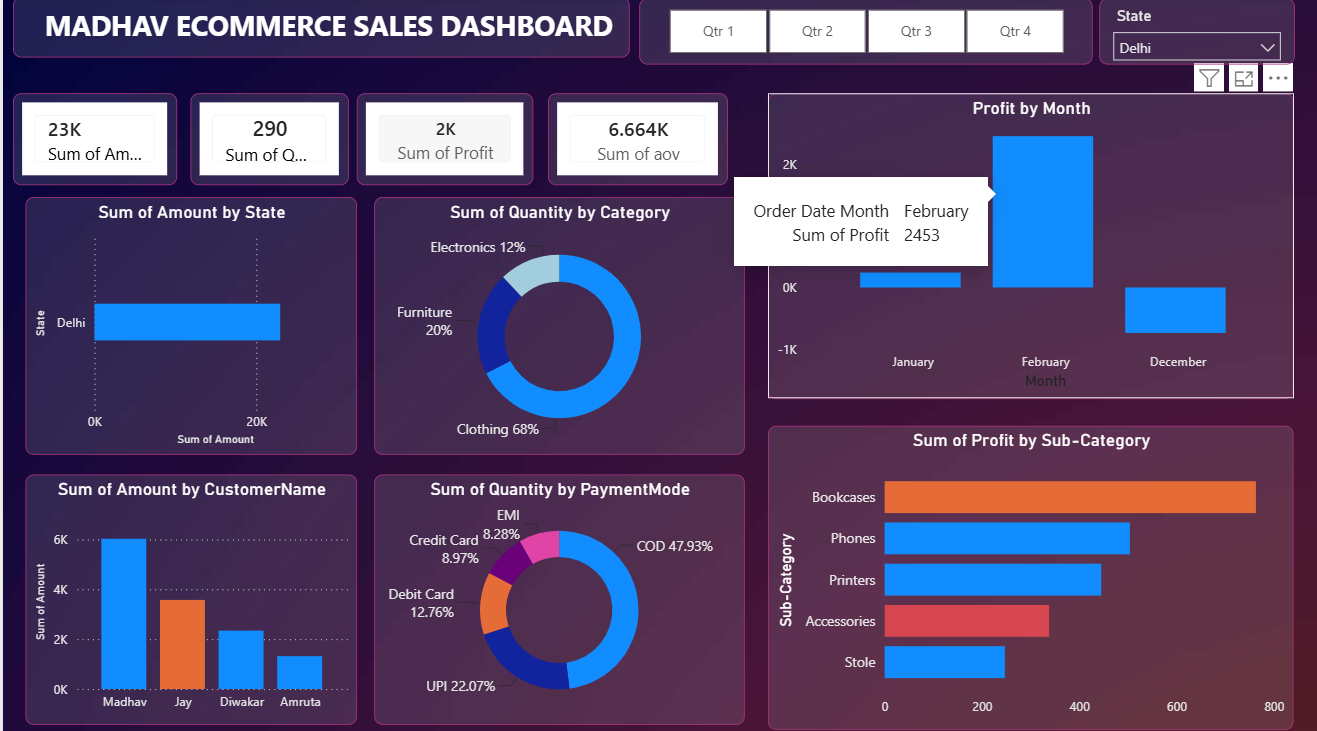

This screenshot's page, from the dashboard's own definition file:
{"tool":"powerbi","page":{"name":"Page 1","canvas":[1280,720],"ordinal":0},"visuals":[{"type":"textbox","box":[10,0,595,58.8],"z":0},{"type":"columnChart","title":"Profit by Month","fields":{"Y":["Sum(Details.Profit)"],"Category":["Orders.Order Date.Variation.Date Hierarchy.Month"]},"box":[738.8,92.5,507.5,295],"z":1000},{"type":"barChart","fields":{"Y":["Sum(Details.Profit)"],"Category":["Details.Sub-Category"]},"box":[738.8,413.8,507.5,293.8],"z":2000},{"type":"donutChart","fields":{"Category":["Details.Category"],"Y":["Sum(Details.Quantity)"]},"box":[358.8,192.5,357.5,248.8],"z":3000},{"type":"donutChart","fields":{"Category":["Details.PaymentMode"],"Y":["Sum(Details.Quantity)"]},"box":[358.8,461.2,357.5,241.2],"z":4000},{"type":"cardVisual","fields":{"Data":["Sum(Details.Amount)"]},"box":[10,92.5,158.8,88.8],"z":5000},{"type":"cardVisual","fields":{"Data":["Sum(Details.Quantity)"]},"box":[181.2,92.5,152.5,88.8],"z":6000},{"type":"cardVisual","fields":{"Data":["Sum(Details.aov)"]},"box":[526.2,92.5,173.8,88.8],"z":7000},{"type":"cardVisual","fields":{"Data":["Sum(Details.Profit)"]},"box":[341.2,92.5,170,88.8],"z":8000},{"type":"barChart","fields":{"Category":["Orders.State"],"Y":["Sum(Details.Amount)"]},"box":[21.2,192.5,320,248.8],"z":9000},{"type":"columnChart","fields":{"Y":["Sum(Details.Amount)"],"Category":["Orders.CustomerName"]},"box":[21.2,461.2,320,241.2],"z":10000},{"type":"slicer","fields":{"Values":["Orders.Order Date.Variation.Date Hierarchy.Quarter"]},"box":[613.8,1.2,437.5,63.8],"z":11000},{"type":"slicer","fields":{"Values":["Orders.State"]},"box":[1057.5,1.2,188.8,63.8],"z":12000}]}

Visuals, with their boxes in screenshot pixels (x1, y1, x2, y2), scaled from the page's 1280x720 canvas onto the 1317x731 screenshot:
textbox: [10, 0, 622, 60]
"Profit by Month" columnChart: [760, 94, 1282, 393]
barChart - Sum(Details.Profit) x Details.Sub-Category: [760, 420, 1282, 718]
donutChart - Details.Category x Sum(Details.Quantity): [369, 195, 737, 448]
donutChart - Details.PaymentMode x Sum(Details.Quantity): [369, 468, 737, 713]
cardVisual - Sum(Details.Amount): [10, 94, 174, 184]
cardVisual - Sum(Details.Quantity): [186, 94, 343, 184]
cardVisual - Sum(Details.aov): [541, 94, 720, 184]
cardVisual - Sum(Details.Profit): [351, 94, 526, 184]
barChart - Orders.State x Sum(Details.Amount): [22, 195, 351, 448]
columnChart - Sum(Details.Amount) x Orders.CustomerName: [22, 468, 351, 713]
slicer - Orders.Order Date.Variation.Date Hierarchy.Quarter: [632, 1, 1082, 66]
slicer - Orders.State: [1088, 1, 1282, 66]
